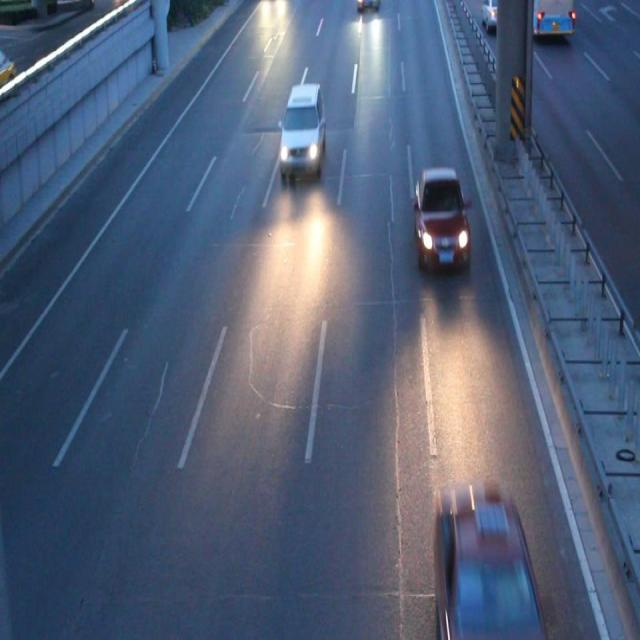car: (435, 492, 540, 627), (412, 171, 469, 262), (278, 85, 324, 178), (479, 1, 509, 27)
van: (520, 1, 571, 32)
